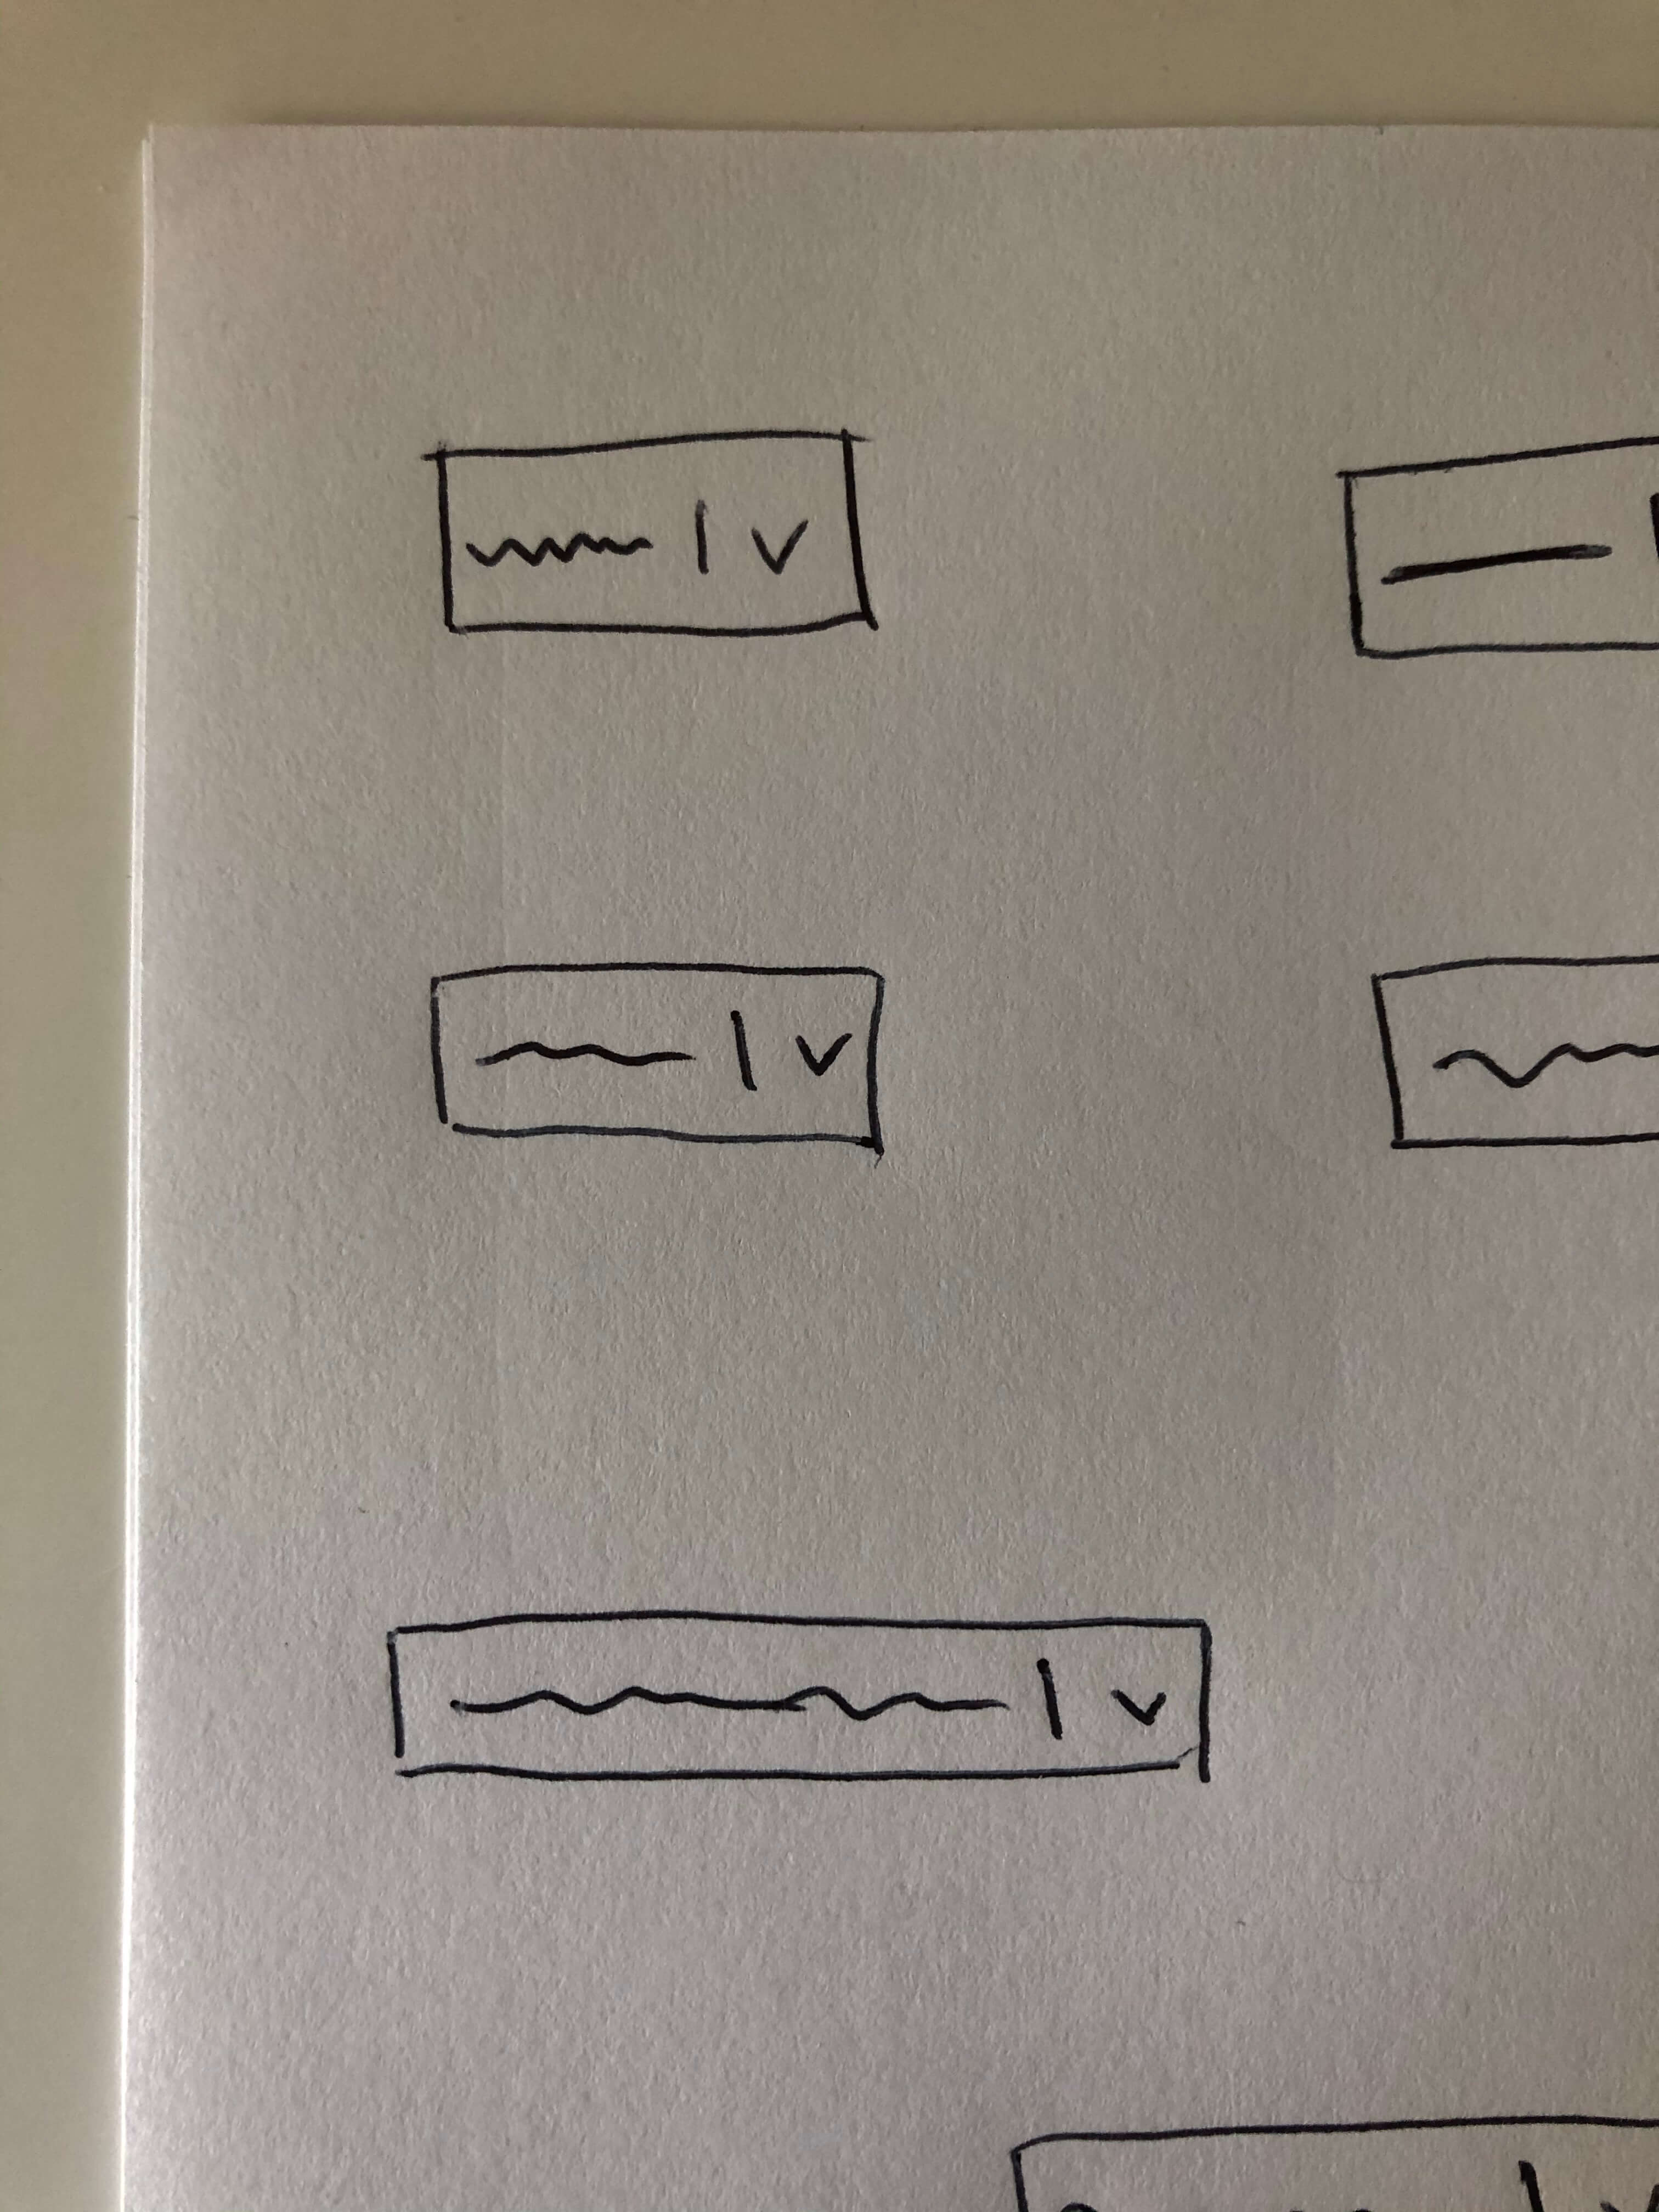split-button: (375, 1564, 1248, 1850), (406, 401, 892, 672), (411, 944, 896, 1184)
